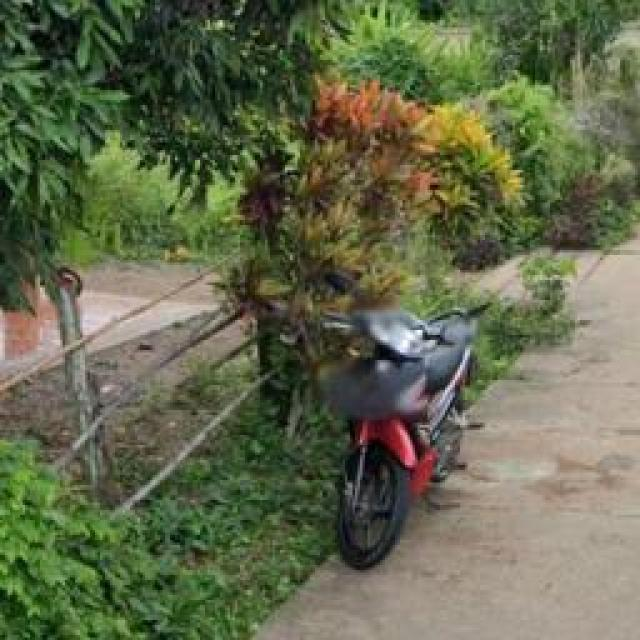motorbike: (297, 306, 487, 572)
